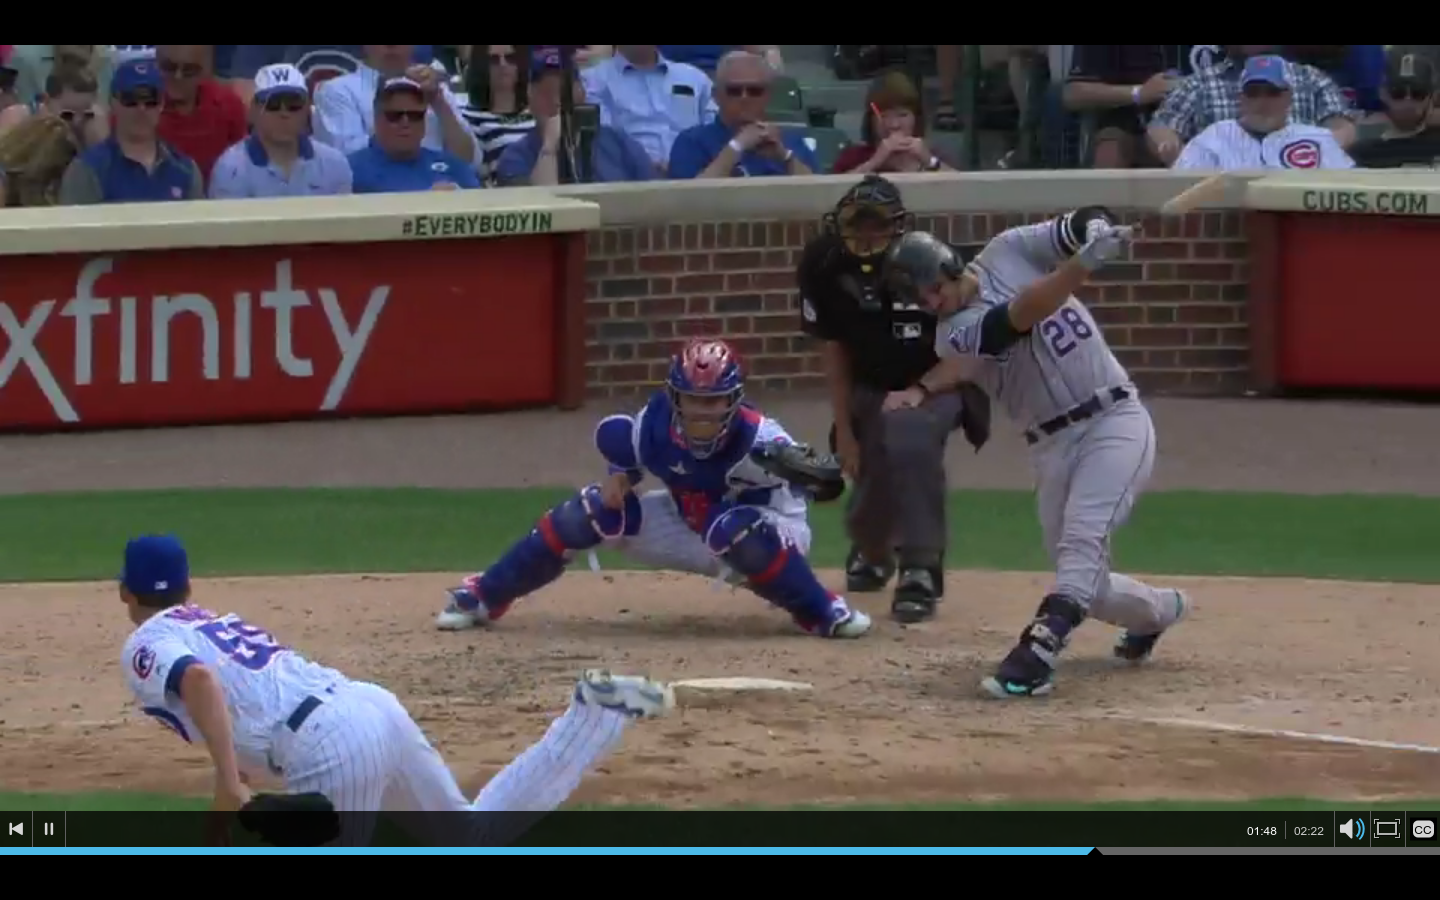baseball bat: (1122, 168, 1241, 246)
baseball player: (119, 529, 673, 808), (895, 205, 1190, 700), (433, 337, 867, 637)
referee: (793, 176, 995, 629)
